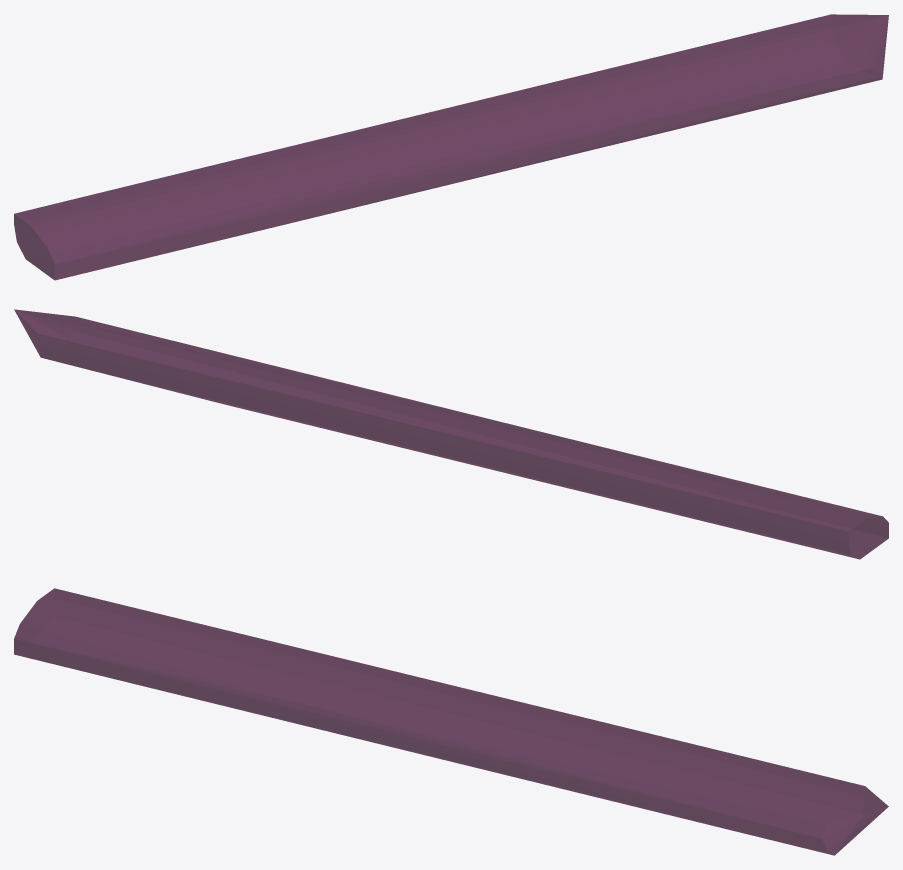
3 renders of one model, top to bottom at view 1: azimuth 30°, elevation 25°; view 2: azimuth 150°, elevation 25°; view 3: azimuth 330°, elevation 25°, orthographic.
Parts seen in each view (by area): view 1: Shape_IndexedFaceSet.009_Shape_IndexedFaceSet.14685; view 2: Shape_IndexedFaceSet.009_Shape_IndexedFaceSet.14685; view 3: Shape_IndexedFaceSet.009_Shape_IndexedFaceSet.14685.
Boxes of the visible parts, x1,y1,x2,y2 form: Shape_IndexedFaceSet.009_Shape_IndexedFaceSet.14685: (14, 14, 888, 280); Shape_IndexedFaceSet.009_Shape_IndexedFaceSet.14685: (14, 309, 888, 559); Shape_IndexedFaceSet.009_Shape_IndexedFaceSet.14685: (14, 588, 888, 855).
Size of the model in its own units: 0.4683 by 0.0205 by 0.0416.
